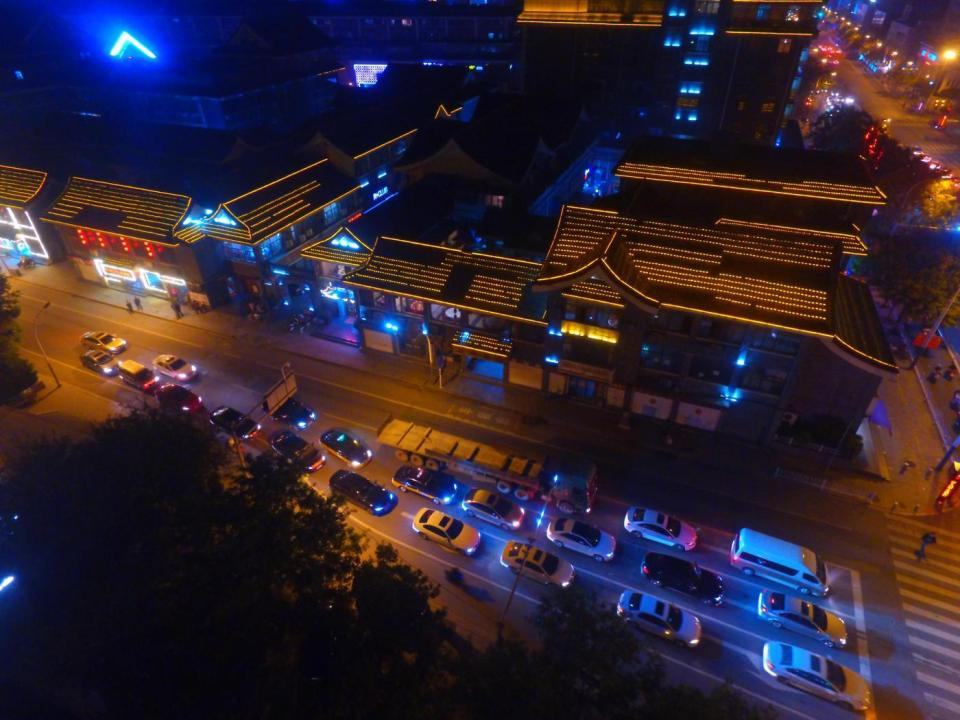car: (763, 638, 870, 710), (756, 587, 846, 649), (616, 586, 701, 649), (640, 549, 726, 608), (499, 538, 575, 590), (622, 502, 697, 551), (411, 505, 481, 557), (546, 514, 616, 562), (327, 468, 394, 515), (461, 485, 524, 532), (390, 463, 458, 506), (265, 427, 326, 473), (261, 386, 318, 430), (319, 426, 374, 468), (208, 403, 262, 440), (153, 380, 204, 415), (79, 328, 127, 356), (152, 352, 198, 380), (80, 348, 122, 377), (938, 168, 953, 180), (926, 159, 941, 170), (910, 144, 923, 155), (919, 152, 932, 163), (836, 94, 845, 103), (846, 94, 854, 104), (830, 89, 838, 96)
truck: (376, 414, 599, 515)
van: (117, 357, 157, 389)
